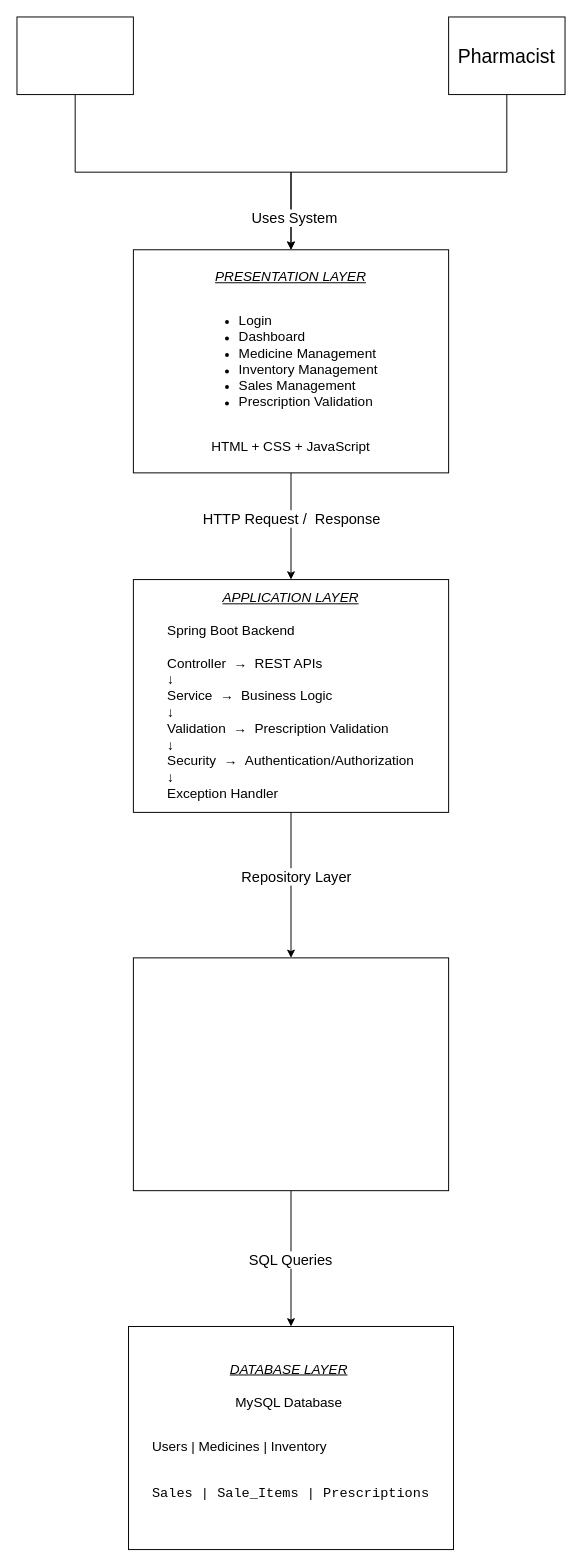
Image size: 582x1567. Some labels were removed from this diagram. Each missing label, with the box of its shape:
Admin: (16, 16, 133, 95)
DATA ACCESS LAYER Repository Spring Data JPA: (132, 957, 449, 1191)
